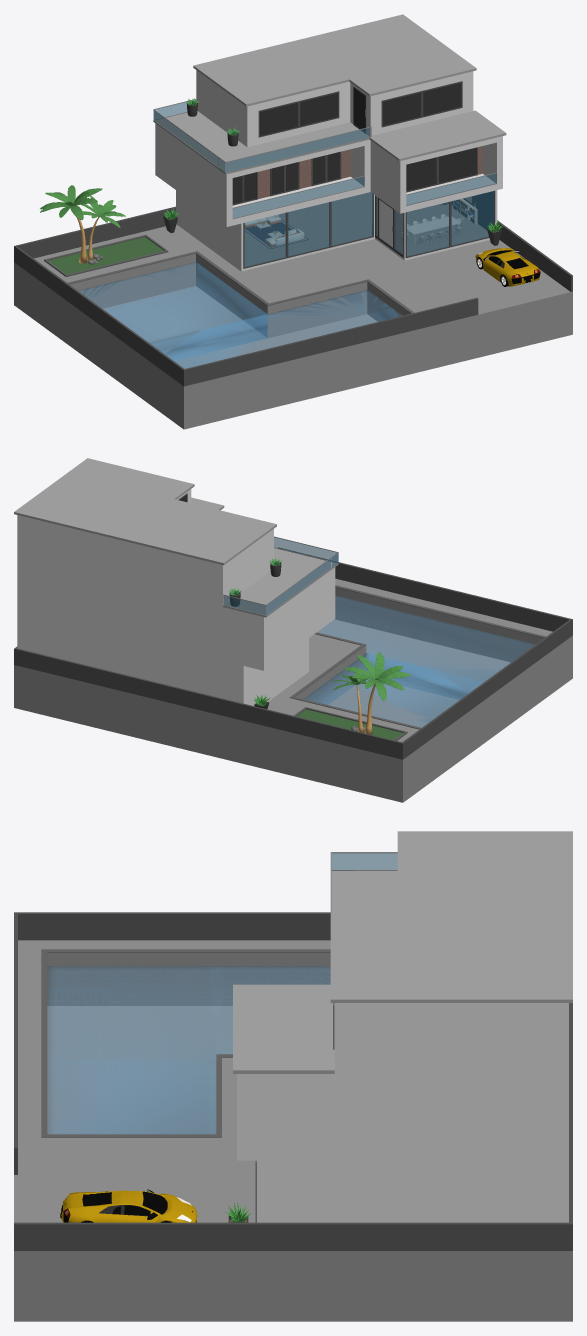
The model's file is penthouse.glb.
3 views of the same model, one above another, from view 1: azimuth 30°, elevation 25°; view 2: azimuth 150°, elevation 25°; view 3: azimuth 270°, elevation 25° (orthographic). The views are drawn at different scales.
Parts seen in each view (by area): view 1: Platform, Base, Platform.001, Roof1, Windows, Interior1, Roof3, Plane.003, Roof2, Glass1, Window2, Window3 (+11 smaller); view 2: Platform, Base, Platform.001, Roof1, Roof3, Plane.003, Glass1; view 3: Platform, Base, Roof1, Platform.001, Roof2, Circle.004, Roof3, Glass1.
Part boxes in pixels (x1,y1,x2,y2): Platform: (14,206,572,429); Base: (155,70,502,271); Platform.001: (78,262,402,368); Roof1: (193,14,476,106); Windows: (243,190,495,268); Interior1: (245,191,493,266); Roof3: (153,111,369,174); Plane.003: (40,185,168,276); Roof2: (369,110,506,161); Glass1: (153,99,371,173); Window2: (381,81,462,127); Window3: (258,91,339,137); Platform: (14,547,572,802); Base: (17,489,335,706); Platform.001: (304,596,534,727); Roof1: (14,458,276,565); Roof3: (223,548,338,617); Plane.003: (293,652,410,740); Glass1: (223,536,338,616); Platform: (14,912,572,1321); Base: (237,1003,568,1222); Roof1: (330,831,572,1002); Platform.001: (47,966,330,1134); Roof2: (233,984,334,1073); Circle.004: (60,1189,197,1222); Roof3: (331,871,397,913); Glass1: (330,852,397,913).
Bounding box in the file's own units: 15.56 × 7.49 × 11.77.
Materials: 120 (6 with a texture image).
